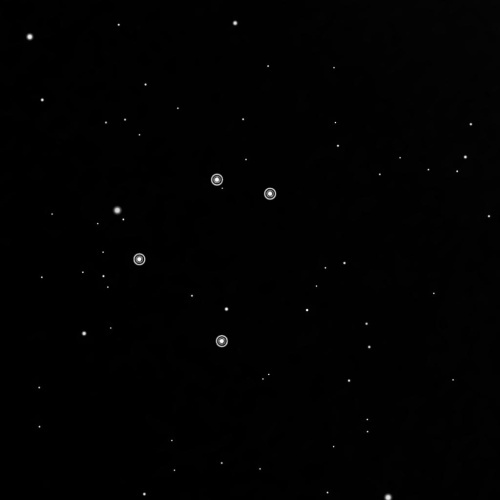coma_berenices: (124, 163, 286, 357)
